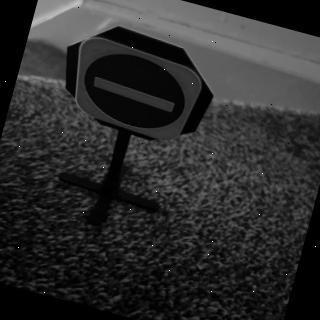sign_noentry: (55, 27, 216, 153)
